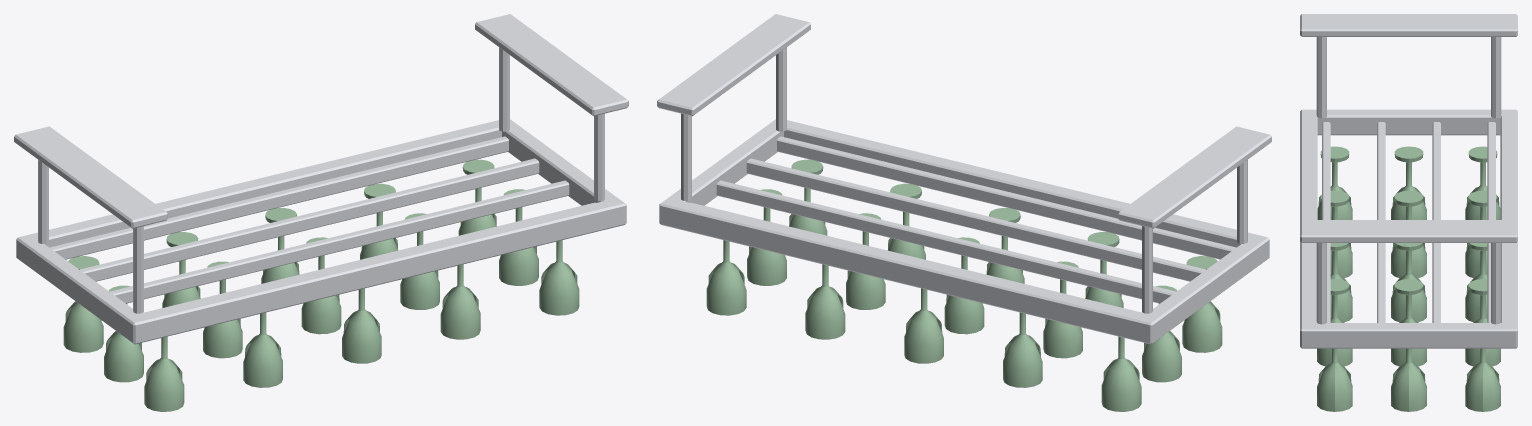
File: nightclub-and-dj-booth-overhead-glass-rack-94f3b5df__34126.glb
The picture shows the model from 3 angles, left to right: view 1: azimuth 30°, elevation 25°; view 2: azimuth 150°, elevation 25°; view 3: azimuth 270°, elevation 25°; orthographic projection. The views are drawn at different scales.
Visible parts, largest first — view 1: overhead-glass-rack; view 2: overhead-glass-rack; view 3: overhead-glass-rack.
Part boxes in pixels (box(x1,y1,x2,y2)): overhead-glass-rack: box(14, 14, 628, 411); overhead-glass-rack: box(657, 14, 1271, 411); overhead-glass-rack: box(1300, 14, 1517, 411).
Size of the model in its own units: 1.21 by 0.485 by 0.5.
